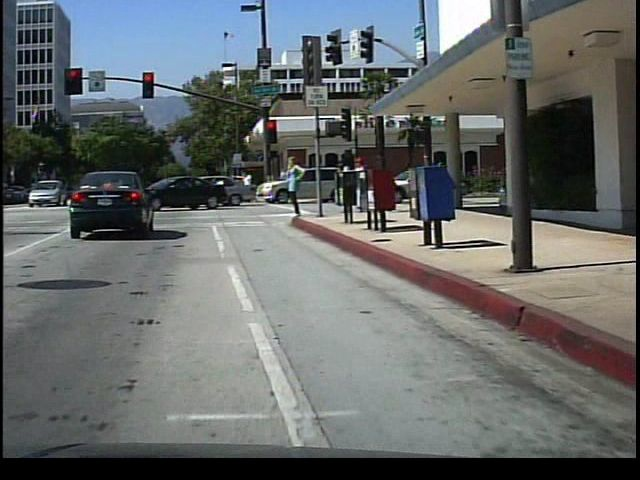person: (284, 151, 311, 220), (335, 153, 356, 213), (351, 153, 371, 214)
